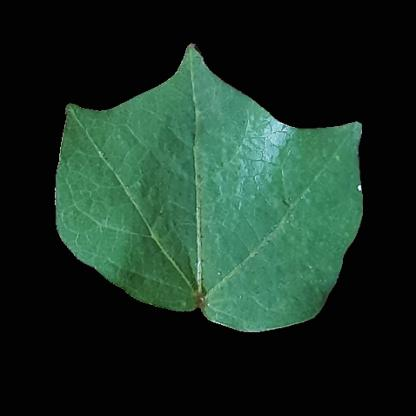healthy: (120, 132, 288, 290)
